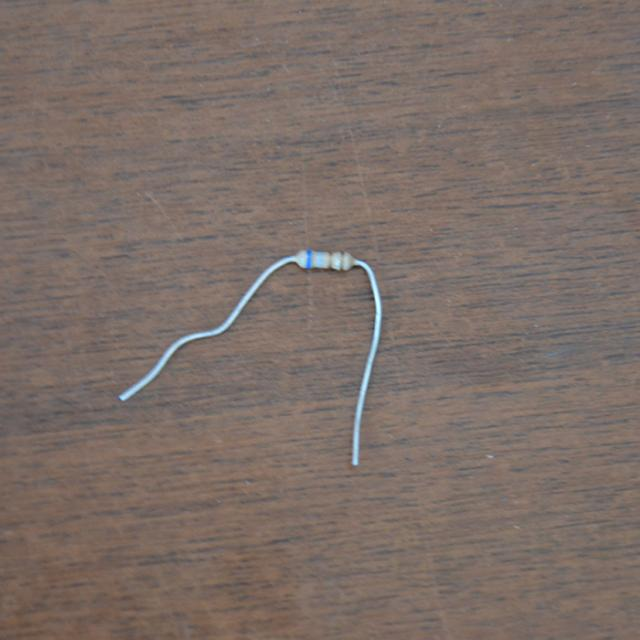blue: (306, 250, 312, 268)
gold: (339, 252, 345, 270), (328, 252, 332, 267)
grey: (317, 250, 325, 267)
resistor: (293, 237, 358, 281)
